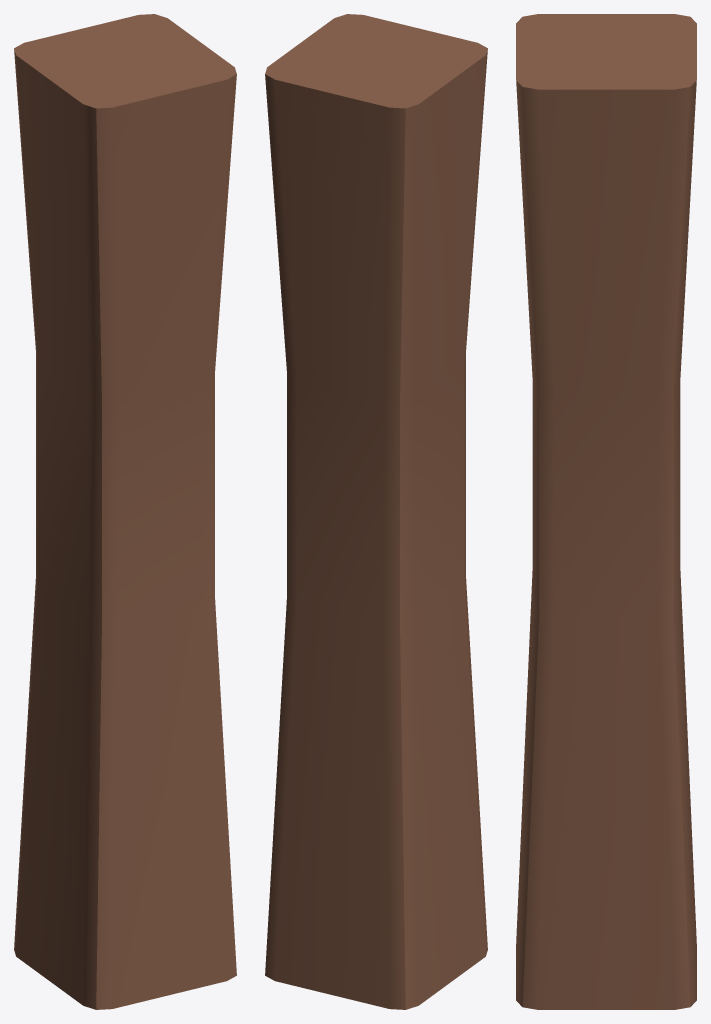
File: WoodenPillar.fbx
The picture shows the model from 3 angles, left to right: view 1: azimuth 30°, elevation 25°; view 2: azimuth 150°, elevation 25°; view 3: azimuth 270°, elevation 25°; orthographic projection. The views are drawn at different scales.
Parts seen in each view (by area): view 1: pasted__pasted__pCube3; view 2: pasted__pasted__pCube3; view 3: pasted__pasted__pCube3.
Part boxes in pixels (x1,y1,x2,y2): pasted__pasted__pCube3: (14, 14, 236, 1009); pasted__pasted__pCube3: (265, 14, 487, 1009); pasted__pasted__pCube3: (516, 14, 696, 1009).
Bounding box in the file's own units: 29.57 × 168 × 29.89.
